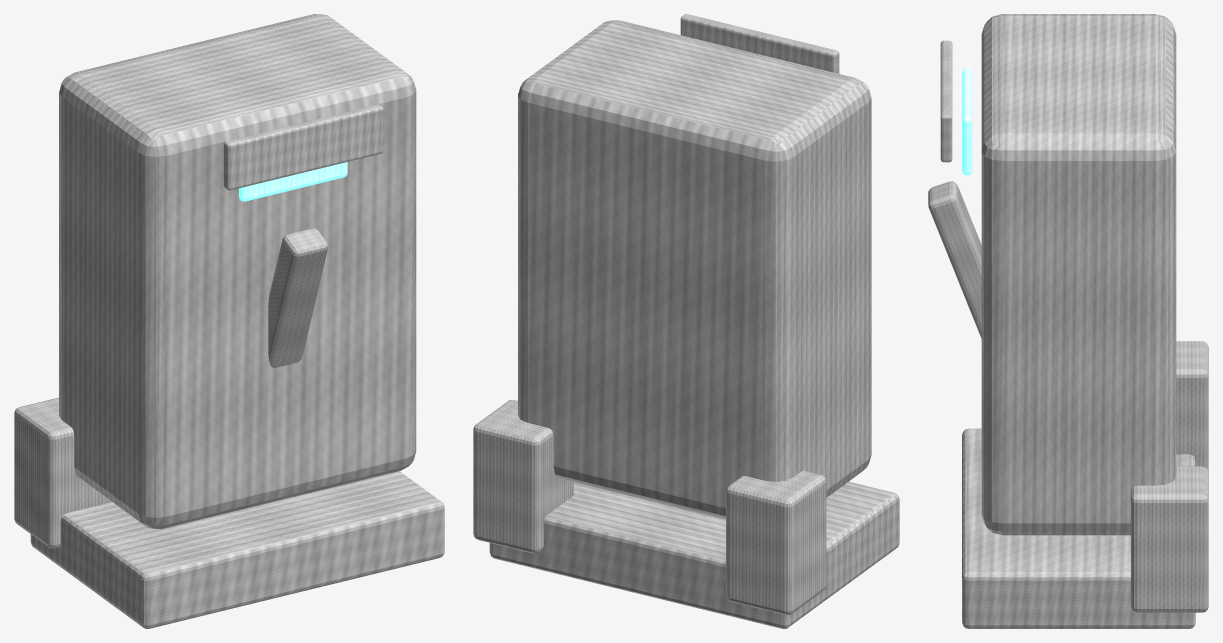
File: power_switch_variant_a.glb
3 views of the same model, side by side, from view 1: azimuth 30°, elevation 25°; view 2: azimuth 150°, elevation 25°; view 3: azimuth 270°, elevation 25° (orthographic).
Visible parts, largest first — view 1: Switch enclosure, Foundation, Service foot, Asset ID plate.001, Switch lever, Status display; view 2: Switch enclosure, Foundation, Service foot, Service foot.001, Asset ID plate.001; view 3: Switch enclosure, Foundation, Service foot.001, Switch lever, Service foot, Asset ID plate.001, Status display.
Part boxes in pixels (<box>): Switch enclosure: <box>59,14,416,529</box>; Foundation: <box>30,471,444,628</box>; Service foot: <box>14,397,111,548</box>; Asset ID plate.001: <box>223,104,383,190</box>; Switch lever: <box>268,228,328,368</box>; Status display: <box>239,162,347,201</box>; Switch enclosure: <box>518,20,871,519</box>; Foundation: <box>489,481,899,628</box>; Service foot: <box>726,470,826,615</box>; Service foot.001: <box>473,400,573,553</box>; Asset ID plate.001: <box>680,14,839,73</box>; Switch enclosure: <box>981,14,1176,535</box>; Foundation: <box>962,428,1195,628</box>; Service foot.001: <box>1131,466,1208,612</box>; Switch lever: <box>928,181,981,338</box>; Service foot: <box>1176,341,1208,471</box>; Asset ID plate.001: <box>940,40,952,162</box>; Status display: <box>962,67,972,175</box>.
Size of what is drawn, in the model's own units: 1.44 by 2.05 by 1.08.
4 materials, 4 textured.
